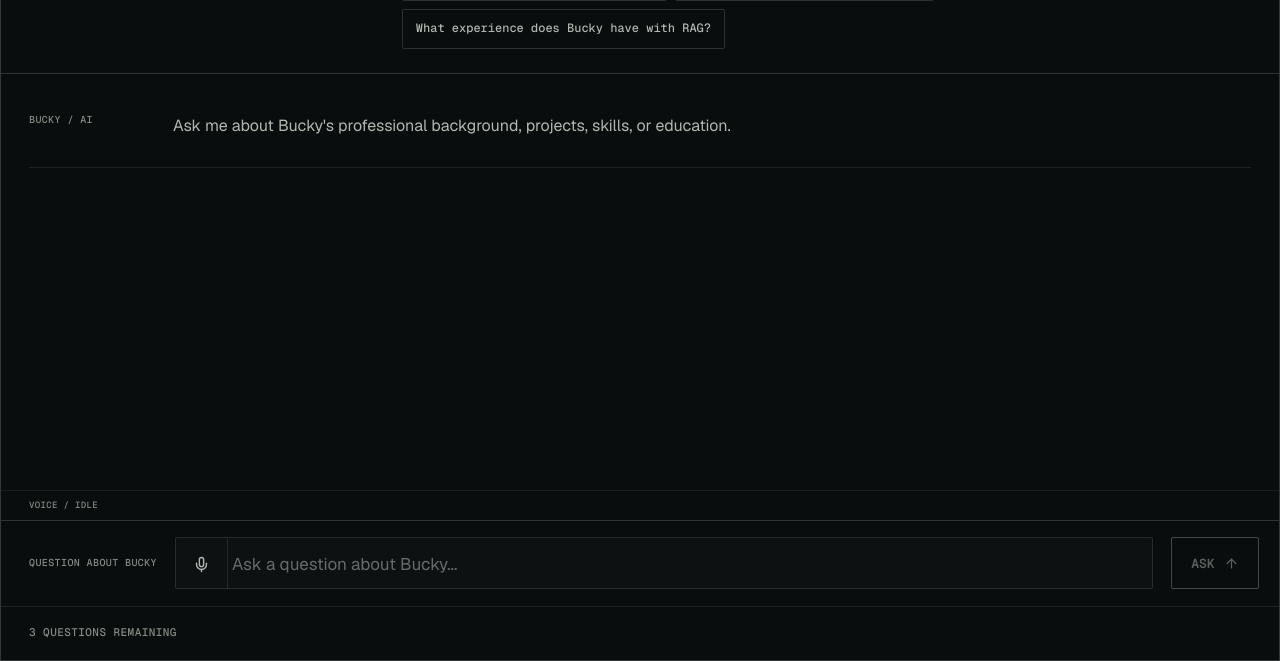
Test: AskBucky session usage › counts a shared cache hit as a successful browser-session answer
The width and height of the screenshot is (1280, 661).
(page scrolled)
Type "What did Bucky work on at Apple?" into the field labelled "Question about Bucky" at (690,564), box [228,538,1152,590]
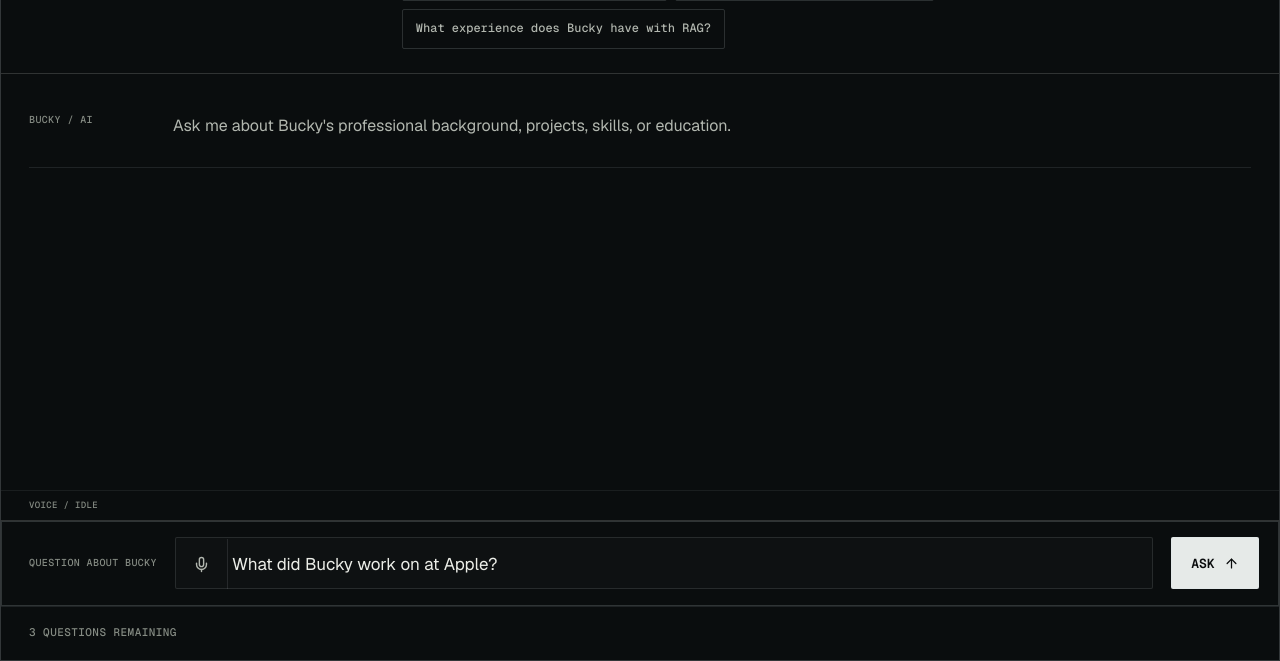
Click the button with aria-label "Send question to Ask Bucky AI" at (1215,563), box [1171,537,1259,589]
(page scrolled)
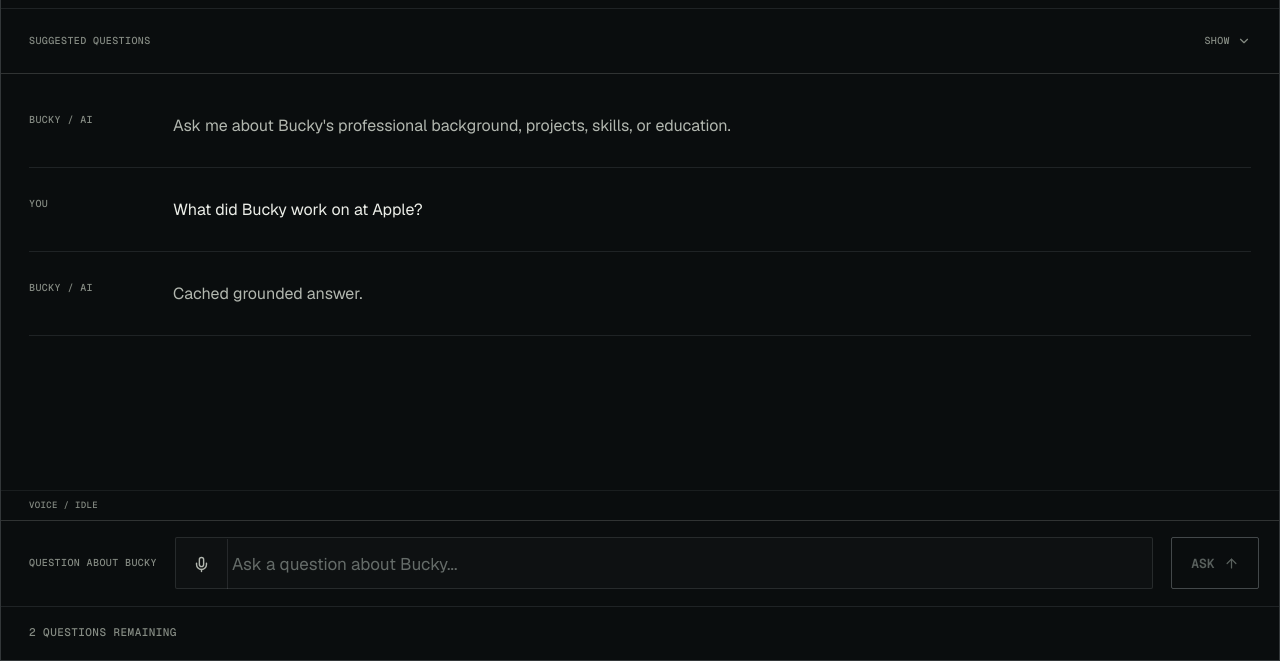
Expected: the text "Cached grounded answer." is shown, [173,283,362,304]
Expected: the text "2 questions remaining" is shown, [29,625,177,641]
